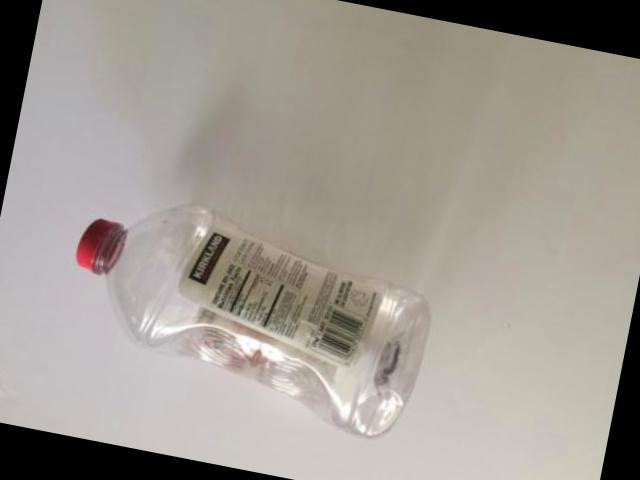plastic: (74, 202, 427, 433)
